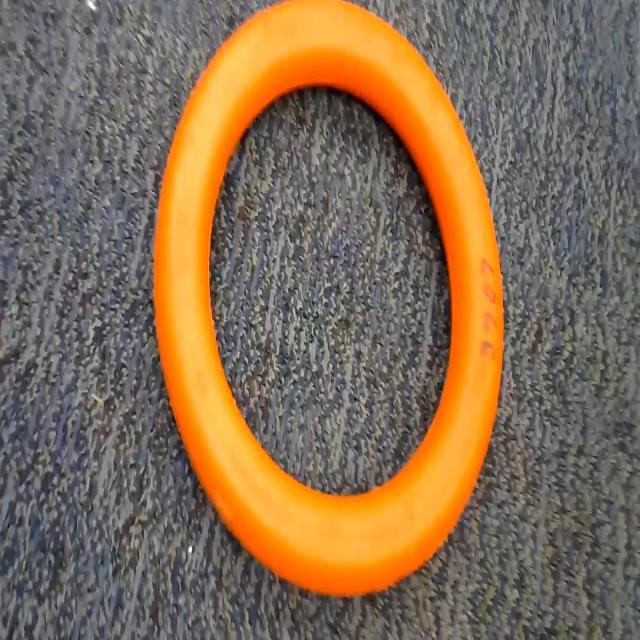note: (153, 0, 544, 598)
